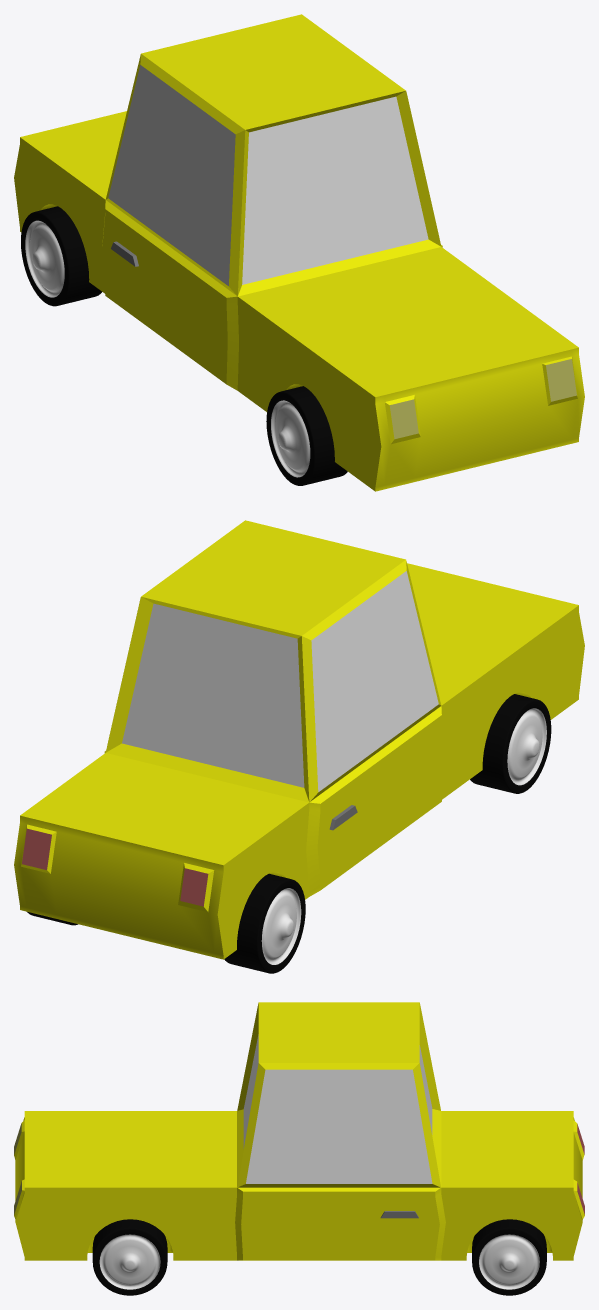
File: CarYellow.fbx
3 renders of one model, top to bottom at view 1: azimuth 30°, elevation 25°; view 2: azimuth 150°, elevation 25°; view 3: azimuth 270°, elevation 25°, orthographic. The views are drawn at different scales.
Visible parts, largest first — view 1: MainCarBody, pCylinder16, pCylinder15; view 2: MainCarBody, pCylinder15, pCylinder16; view 3: MainCarBody, pCylinder13, pCylinder14.
Part boxes in pixels (x1,y1,x2,y2): MainCarBody: (14, 14, 584, 491); pCylinder16: (266, 386, 347, 485); pCylinder15: (21, 206, 101, 306); MainCarBody: (14, 520, 584, 959); pCylinder15: (224, 873, 305, 973); pCylinder16: (470, 694, 551, 793); MainCarBody: (14, 1002, 584, 1260); pCylinder13: (92, 1219, 167, 1295); pCylinder14: (472, 1219, 546, 1295).
Size of the model in its own units: 64 by 67.48 by 160.
